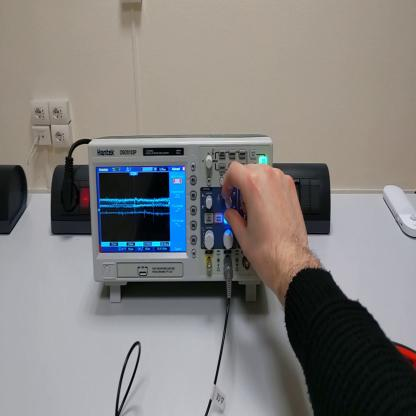hand: (221, 160, 312, 287)
oscilloscope: (90, 134, 275, 303)
pliers: (392, 337, 416, 371)
socket: (51, 165, 92, 239), (2, 158, 32, 239)
